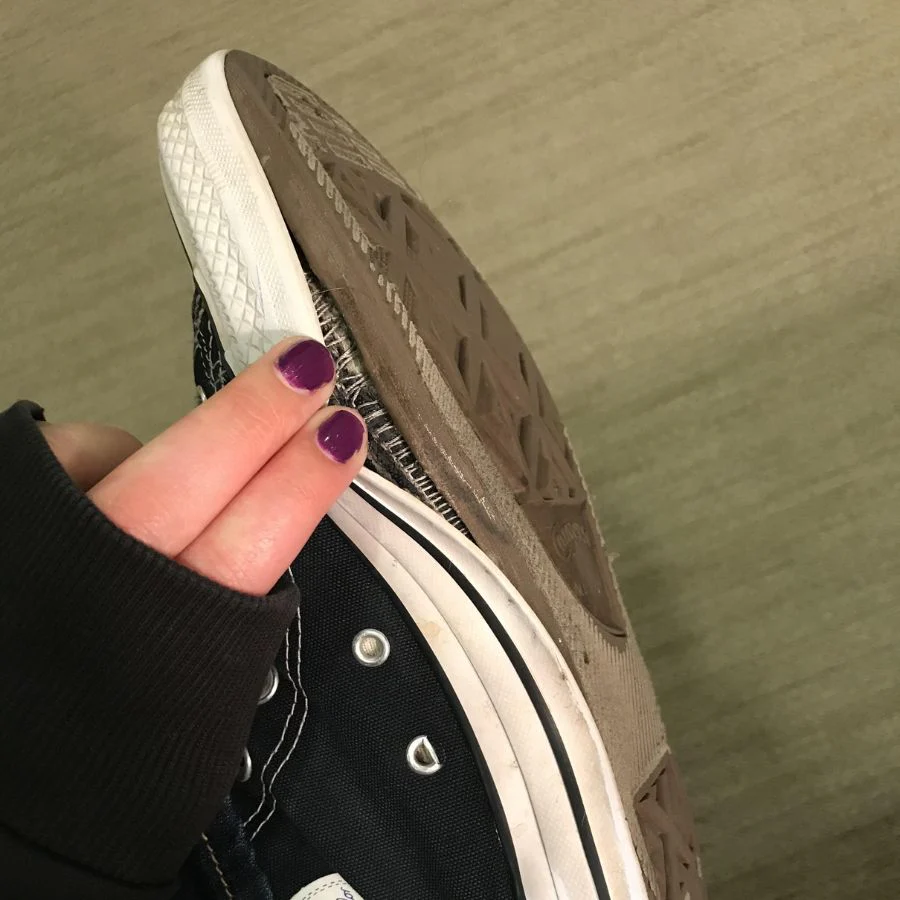bonding: (291, 254, 507, 565)
